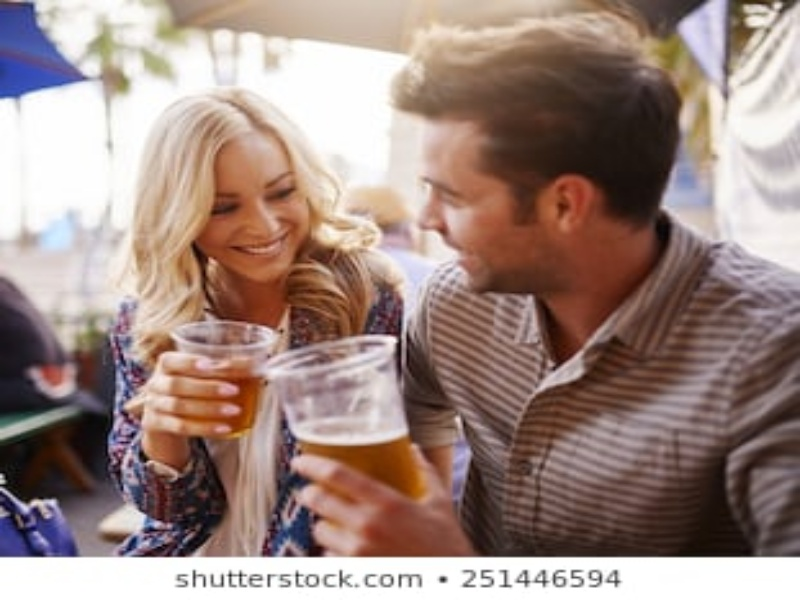plastic-cup: (264, 335, 432, 508), (164, 312, 277, 440)
